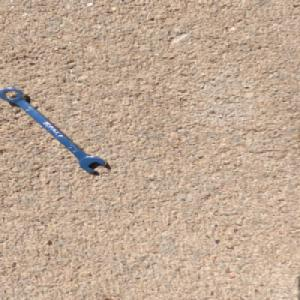Wrench: (2, 86, 111, 173)
